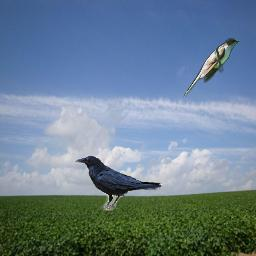Crow: (74, 155, 163, 211)
Cuckoo: (183, 38, 239, 98)
